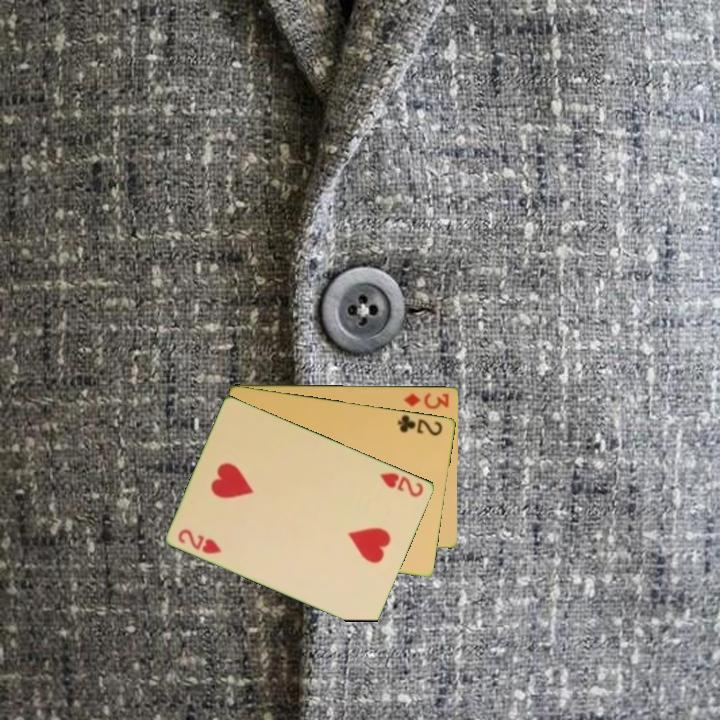2c: (394, 411, 446, 438)
2h: (175, 525, 225, 557), (376, 469, 427, 500)
3d: (400, 389, 452, 411)
